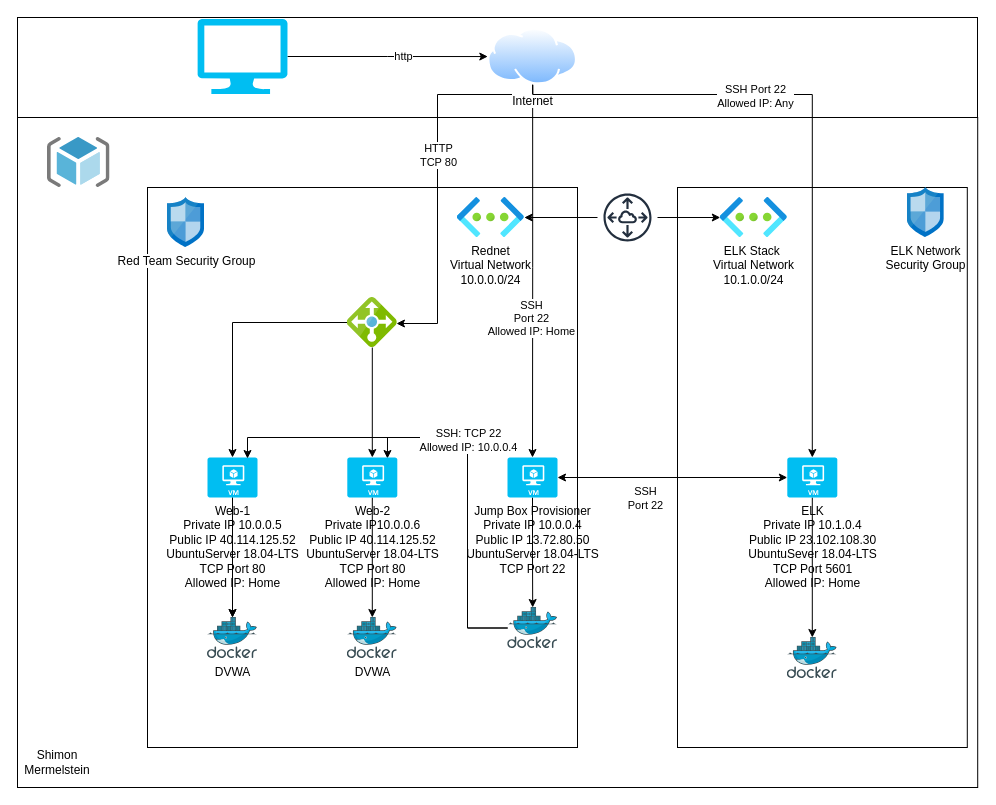
Some shapes in this 996 by 805 pixel diagram are drawn without their labels. The centre of each missing label's shape, as x and y in pixels:
Ansible: (x=532, y=627)
ELK Stack: (x=812, y=657)
Peering ELK Stack to Red Red to ELK: (x=627, y=217)
Personal PC: (x=242, y=56)
Red Team Load Balancer 40.114.125.52: (x=372, y=322)
Red Team Resource Group: (x=78, y=162)
